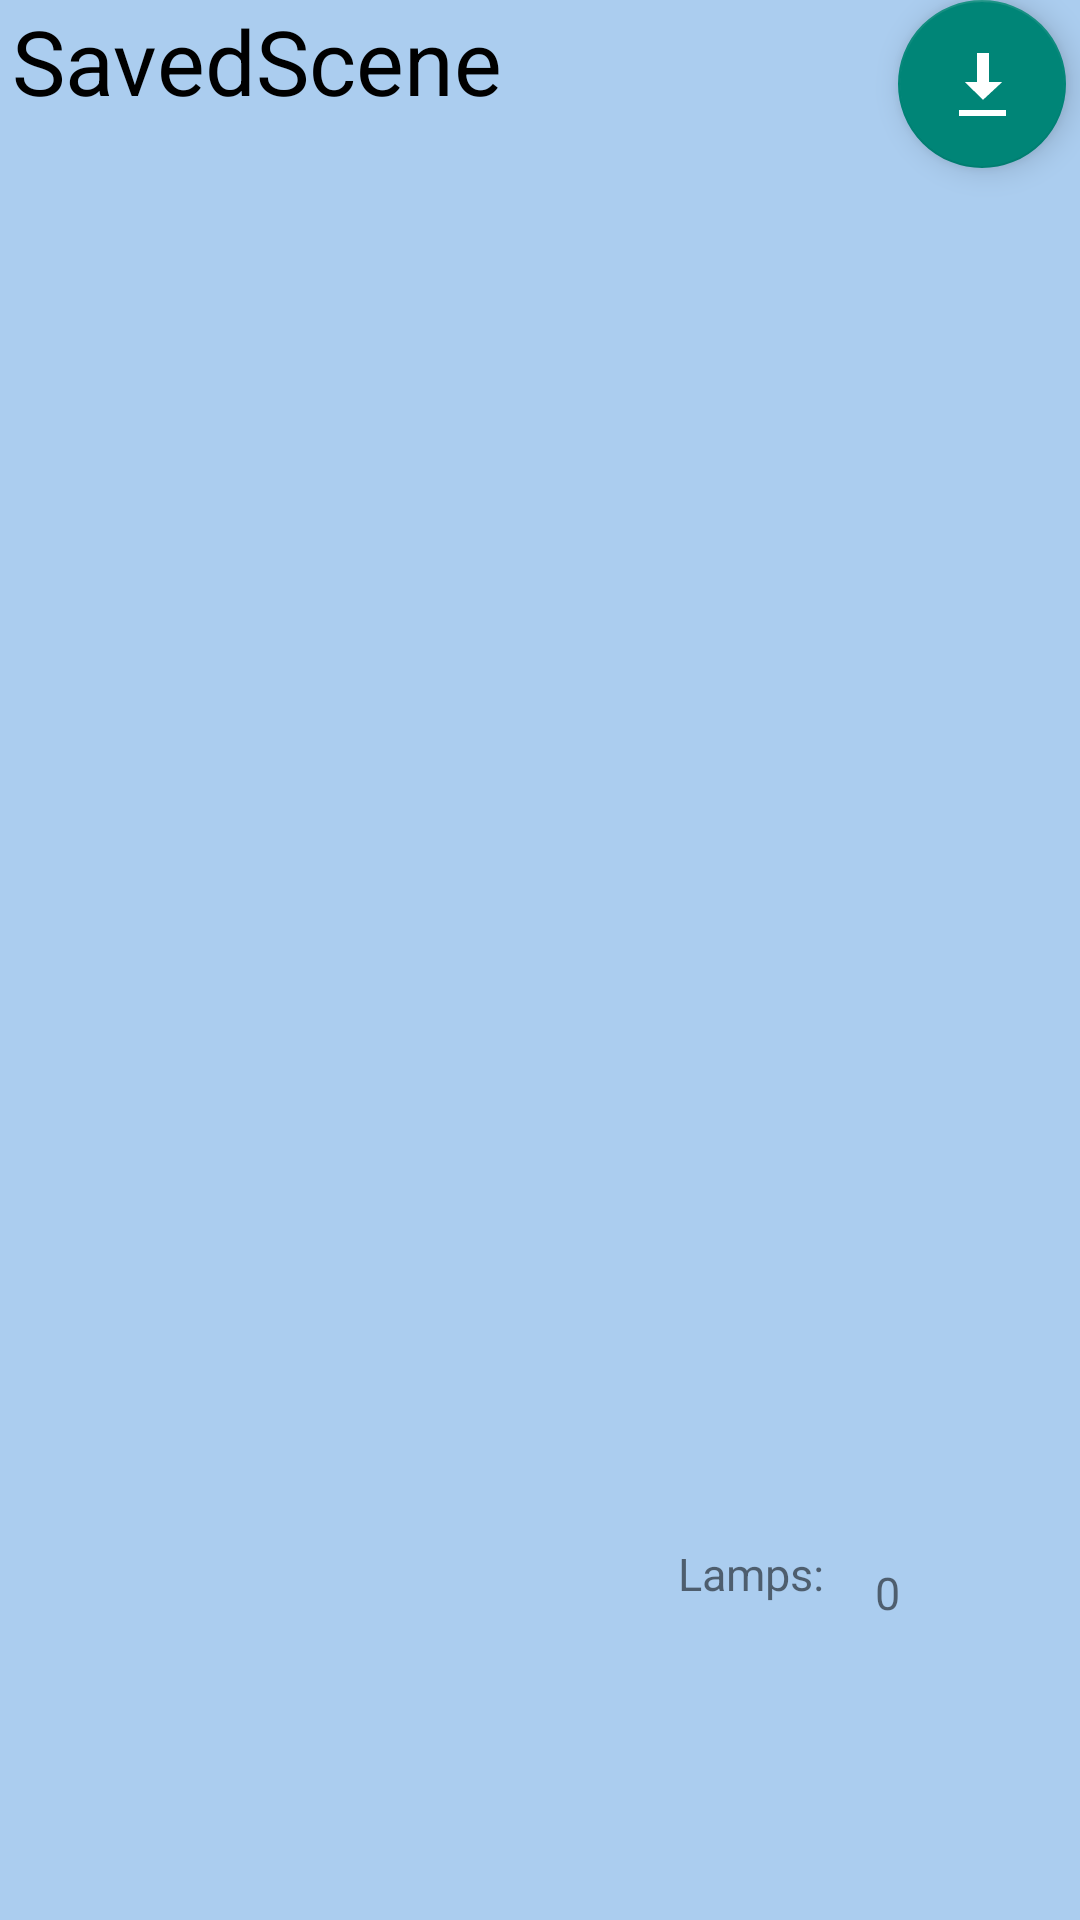

Named icons in this screenshot (1080x1920) and their bounding boxes, bbox(x1, y1, x2, y2):
load: bbox(898, 0, 1066, 168)
